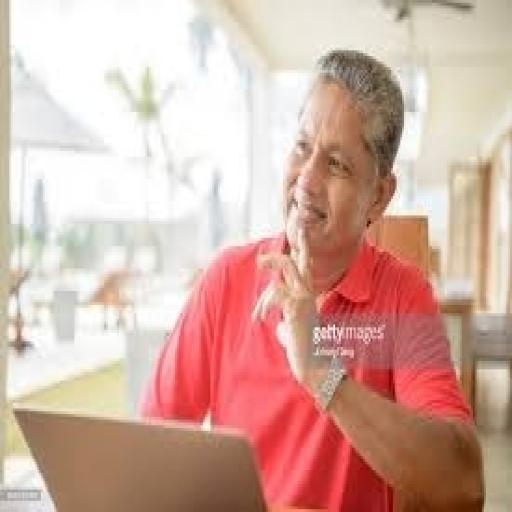using_laptop: (14, 349, 364, 512)
